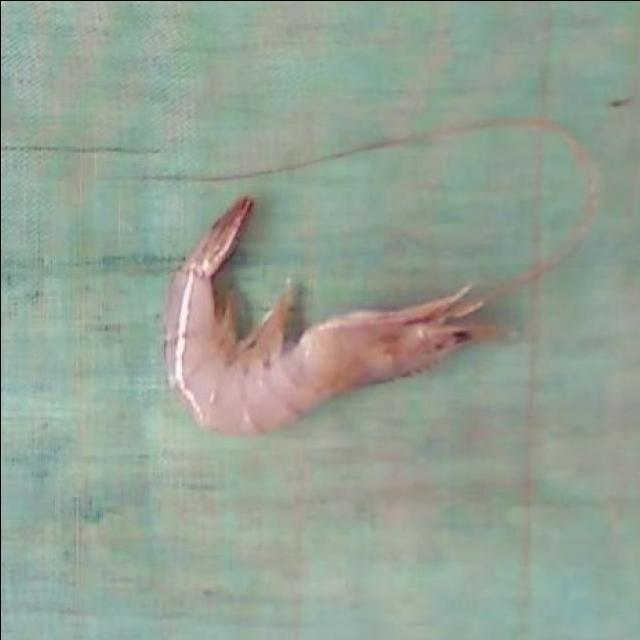shrimp: (164, 197, 495, 434)
